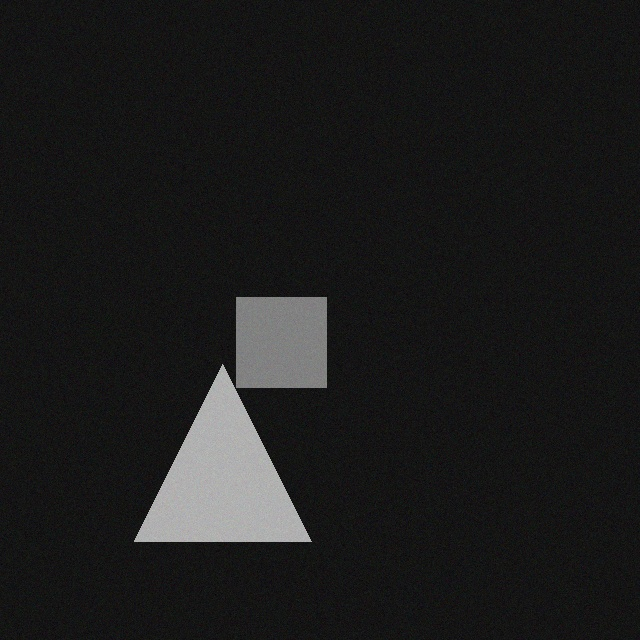square: (227, 304, 317, 394)
triangle: (125, 371, 302, 548)
